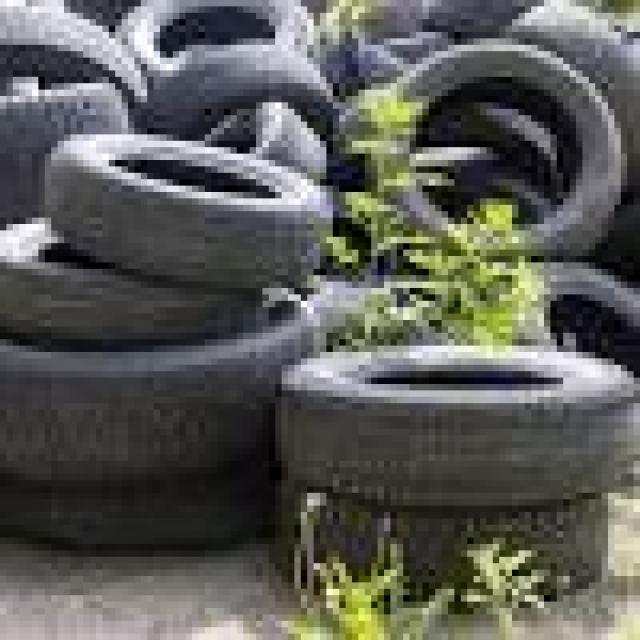Rubber -Non-Biodegradable but Recyclable-: (2, 2, 640, 587)
